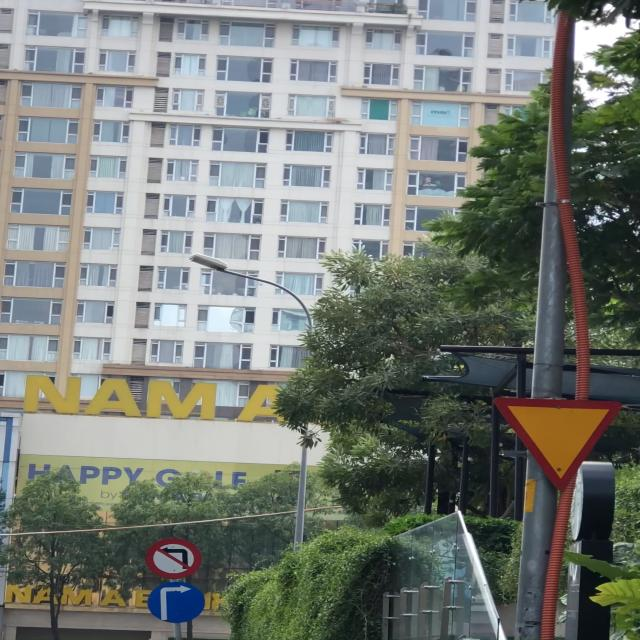Bien bao cam re trai: (143, 537, 204, 582)
Bien bao giao nhau voi duong uu tien: (485, 391, 624, 491)
Bien bao huong di phai theo: (148, 580, 209, 628)
